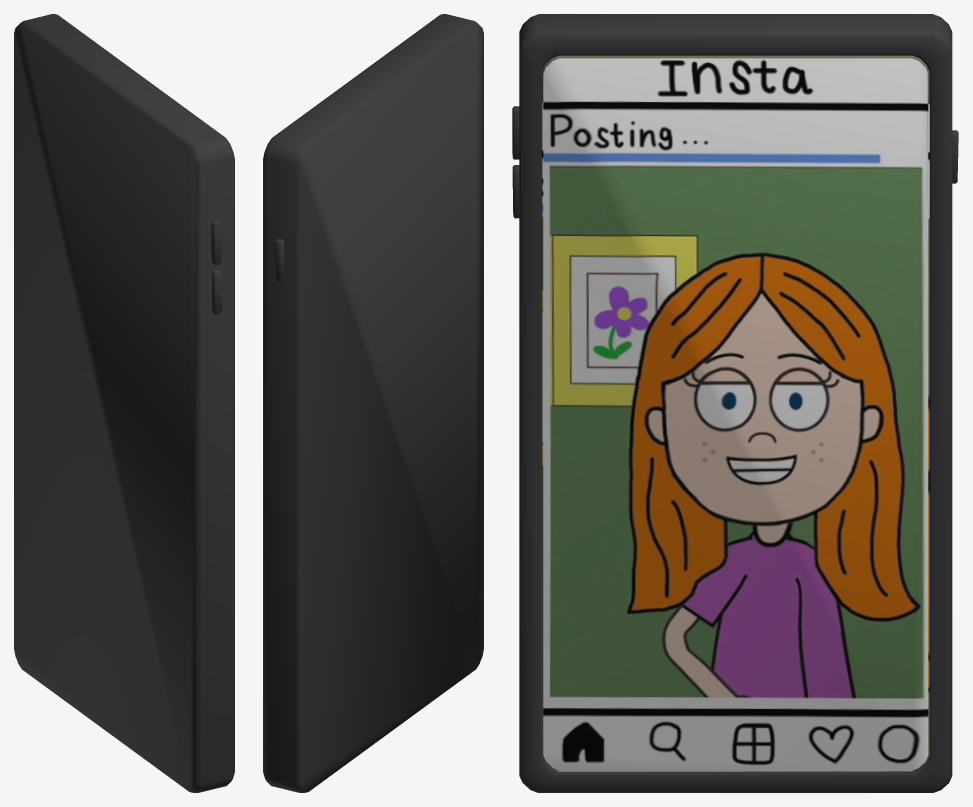
File: Smartphone-Ep5.fbx
The picture shows the model from 3 angles, left to right: view 1: azimuth 30°, elevation 25°; view 2: azimuth 150°, elevation 25°; view 3: azimuth 270°, elevation 25°; orthographic projection. The views are drawn at different scales.
Parts seen in each view (by area): view 1: SmartphoneExport; view 2: SmartphoneExport; view 3: SmartphoneExport.
Part boxes in pixels (<box>): SmartphoneExport: <box>14,14,234,792</box>; SmartphoneExport: <box>263,14,483,792</box>; SmartphoneExport: <box>512,14,958,792</box>.
Size of the model in its own units: 16.11 by 262 by 139.
